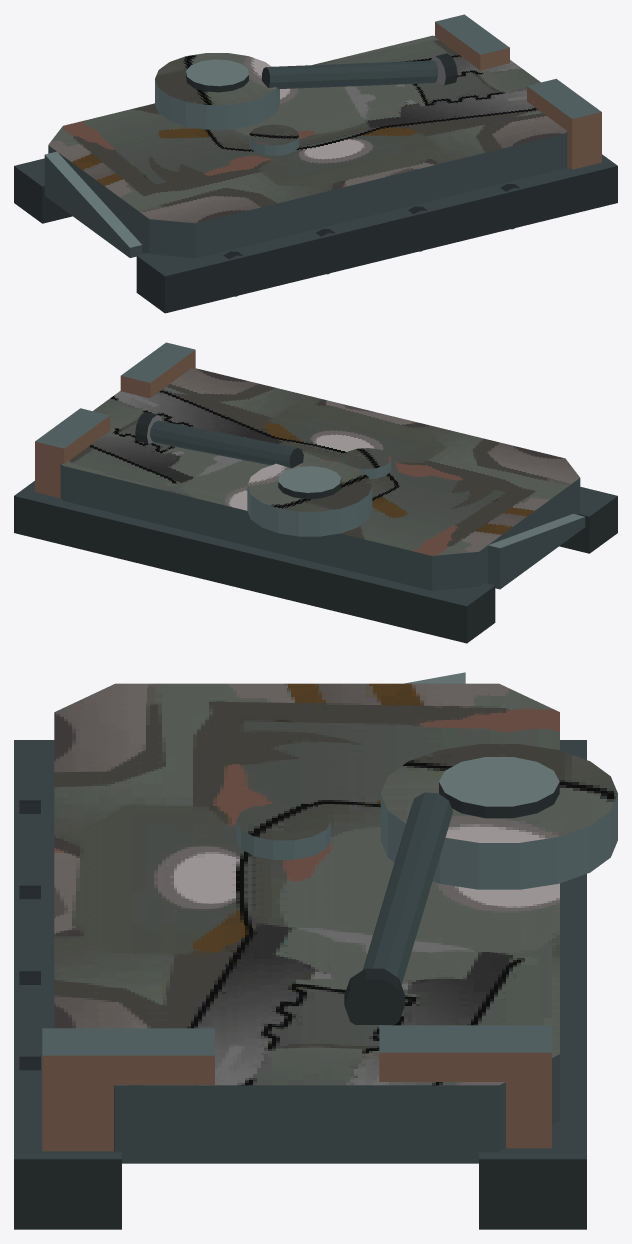
File: Building_AncientTank.glb
The picture shows the model from 3 angles, top to bottom: view 1: azimuth 30°, elevation 25°; view 2: azimuth 150°, elevation 25°; view 3: azimuth 270°, elevation 25°; orthographic projection. The views are drawn at different scales.
Parts seen in each view (by area): view 1: AncientTank; view 2: AncientTank; view 3: AncientTank.
Boxes of the visible parts, x1=… form: AncientTank: x1=14, y1=14, x2=617, y2=313; AncientTank: x1=14, y1=342, x2=617, y2=643; AncientTank: x1=14, y1=672, x2=617, y2=1229.
Bounding box in the file's own units: 4.61 × 1.11 × 2.8.
Materials: 1 (1 with a texture image).
